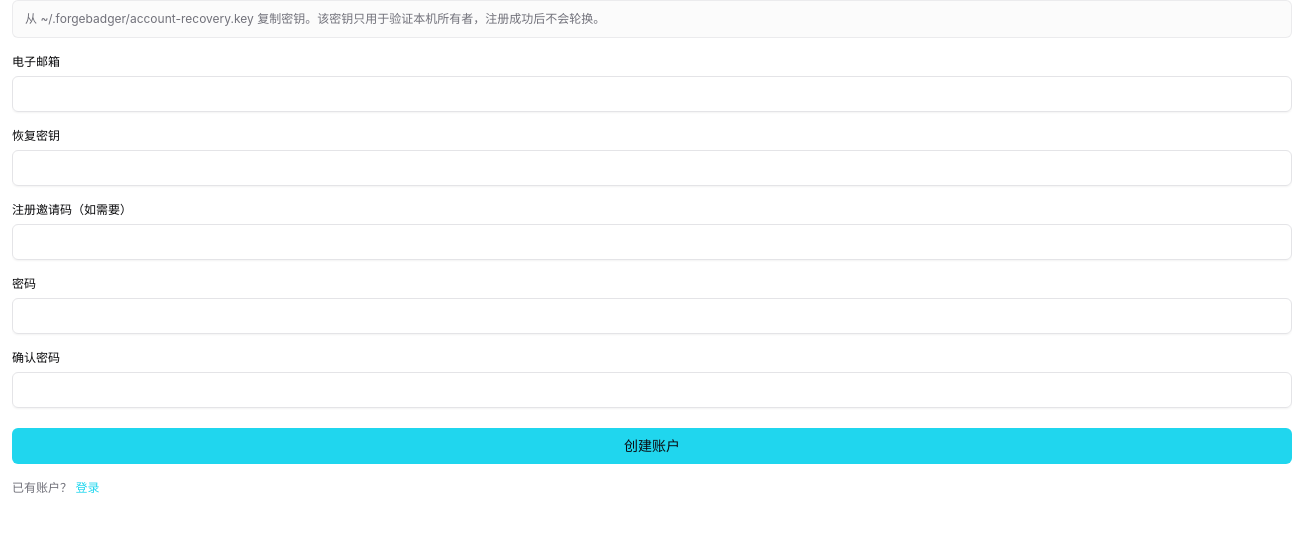
RegisterForm › localizes an invalid recovery key without exposing the Gateway message
Type "owner@example.com" into the field labelled "电子邮箱".
click(652, 94); type("owner@example.com")  # box [12, 76, 1292, 112]
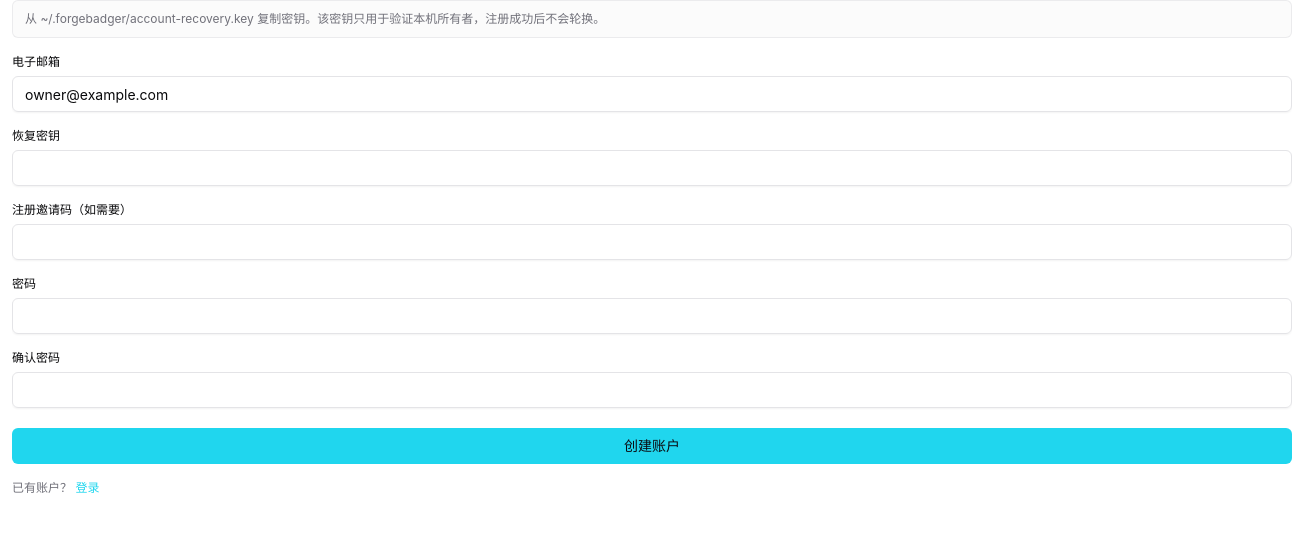
Type "wrong-key" into the password field labelled "恢复密钥".
click(652, 168); type("wrong-key")  # box [12, 150, 1292, 186]
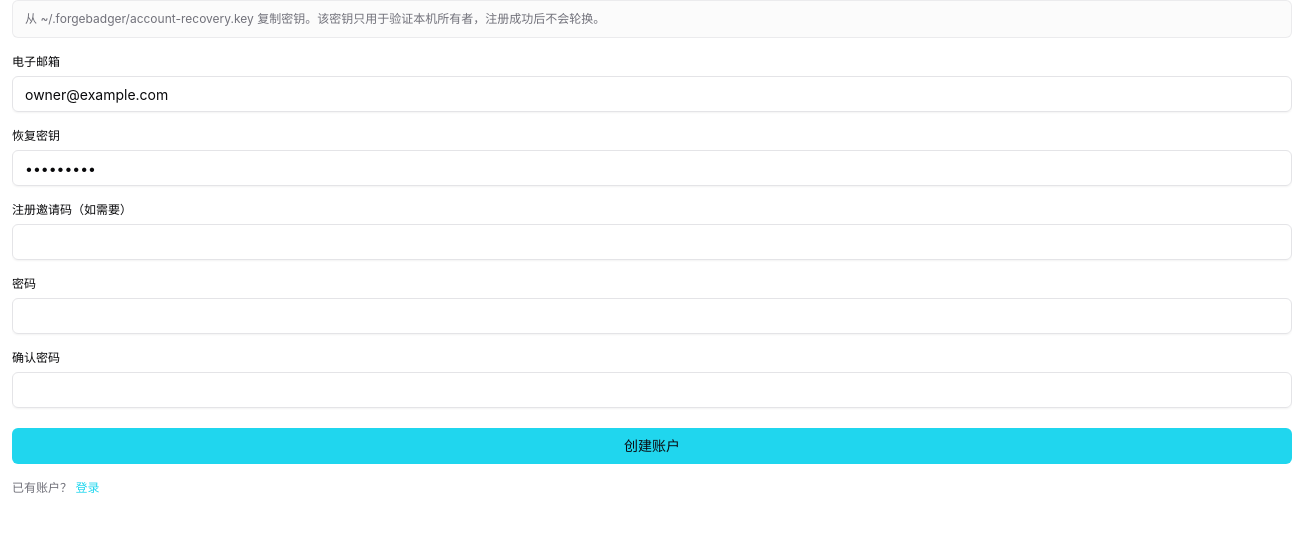
Type "password123" into the password field labelled "密码".
click(652, 316); type("password123")  # box [12, 298, 1292, 334]
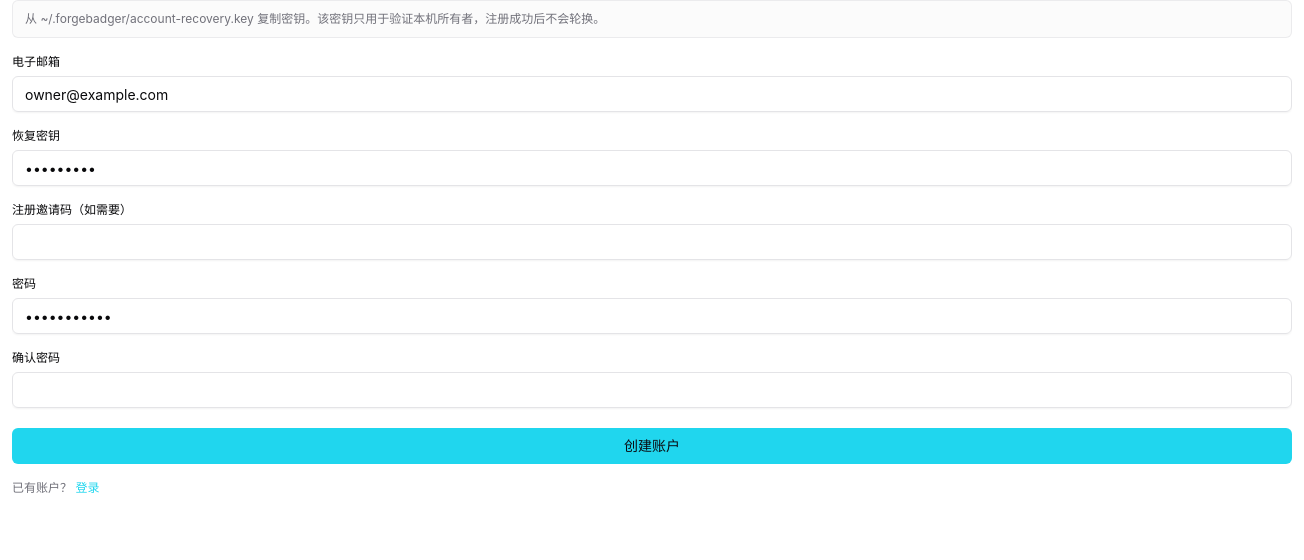
Type "password123" into the password field labelled "确认密码".
click(652, 390); type("password123")  # box [12, 372, 1292, 408]
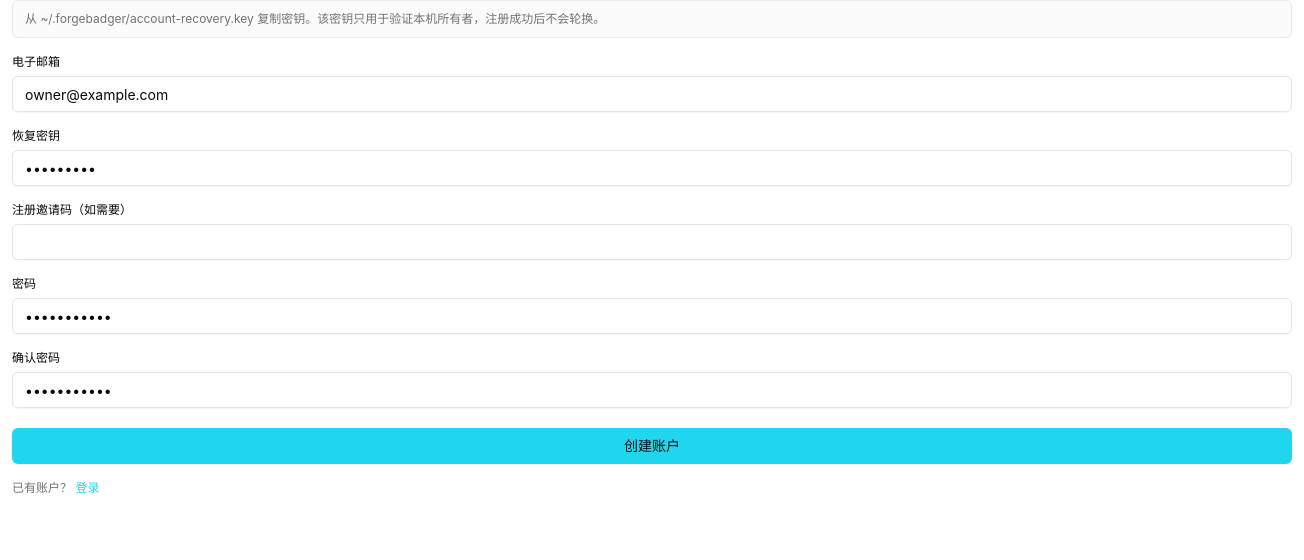
Click the button "创建账户".
click(652, 446)  # box [12, 428, 1292, 464]
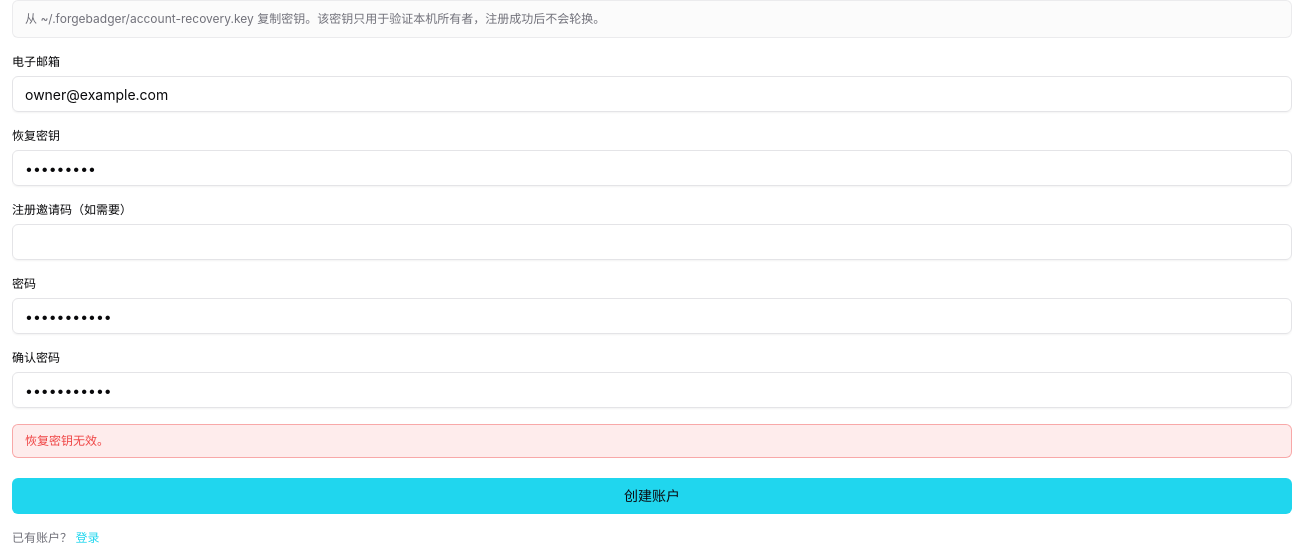
Expected: the text "Invalid registration credentials" is not shown
Expected: the text "恢复密钥无效。" is shown, [25, 433, 109, 448]
